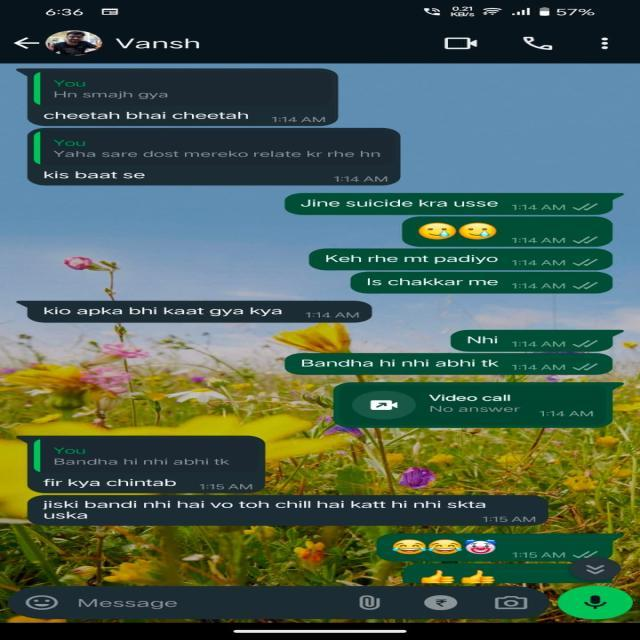scam: (26, 494, 549, 524), (23, 165, 406, 186), (28, 300, 376, 323), (28, 107, 342, 125), (28, 475, 272, 493)
